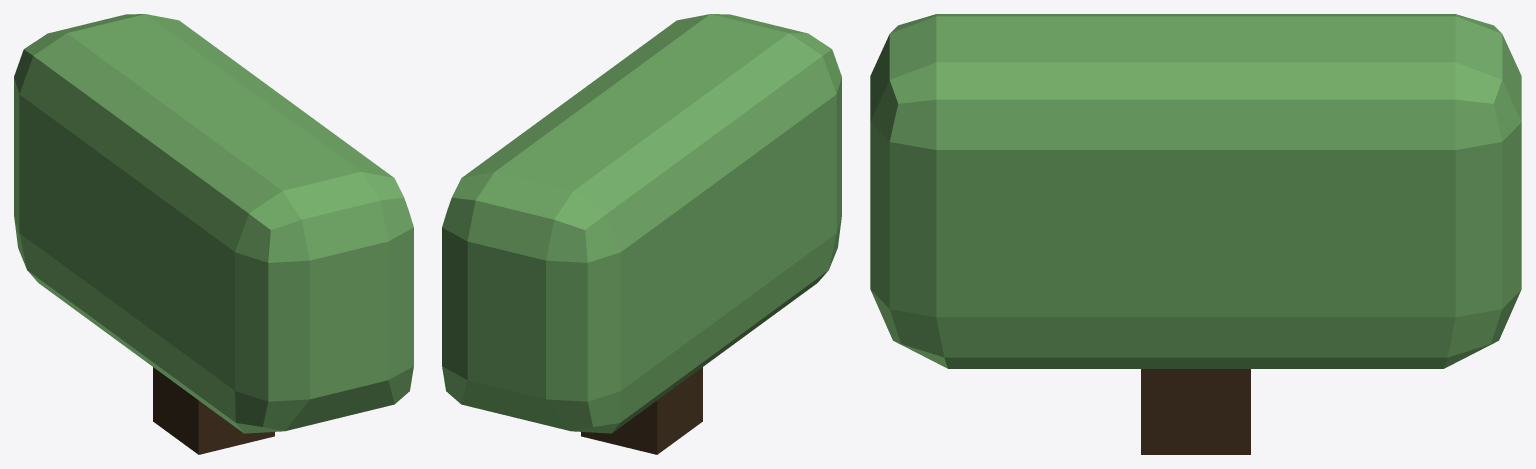
The model's file is BushSmall.fbx.
The picture shows the model from 3 angles, left to right: view 1: azimuth 30°, elevation 25°; view 2: azimuth 150°, elevation 25°; view 3: azimuth 270°, elevation 25°; orthographic projection. The views are drawn at different scales.
Visible parts, largest first — view 1: Cube; view 2: Cube; view 3: Cube.
Part boxes in pixels (x1=…): Cube: x1=14, y1=14, x2=413, y2=454; Cube: x1=442, y1=14, x2=841, y2=454; Cube: x1=870, y1=14, x2=1521, y2=454.
Bounding box in the file's own units: 278 × 501 × 751.
